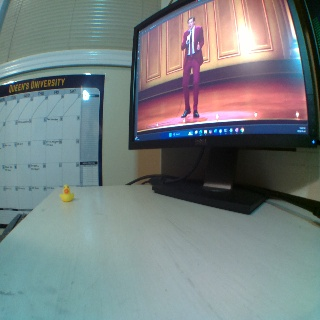duck_regular: (57, 182, 73, 202)
